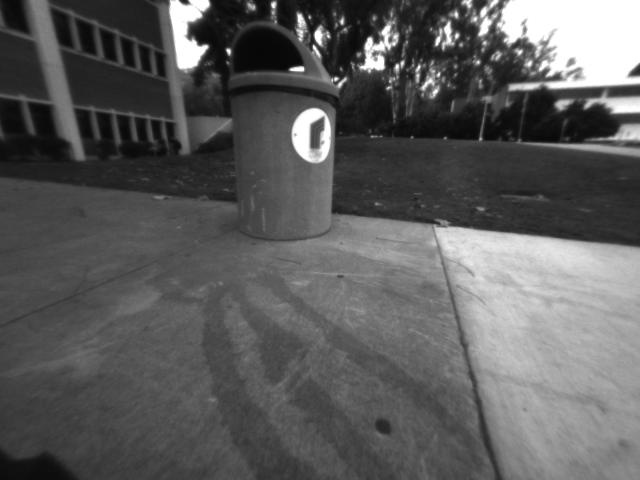trashcan: (226, 21, 343, 246)
